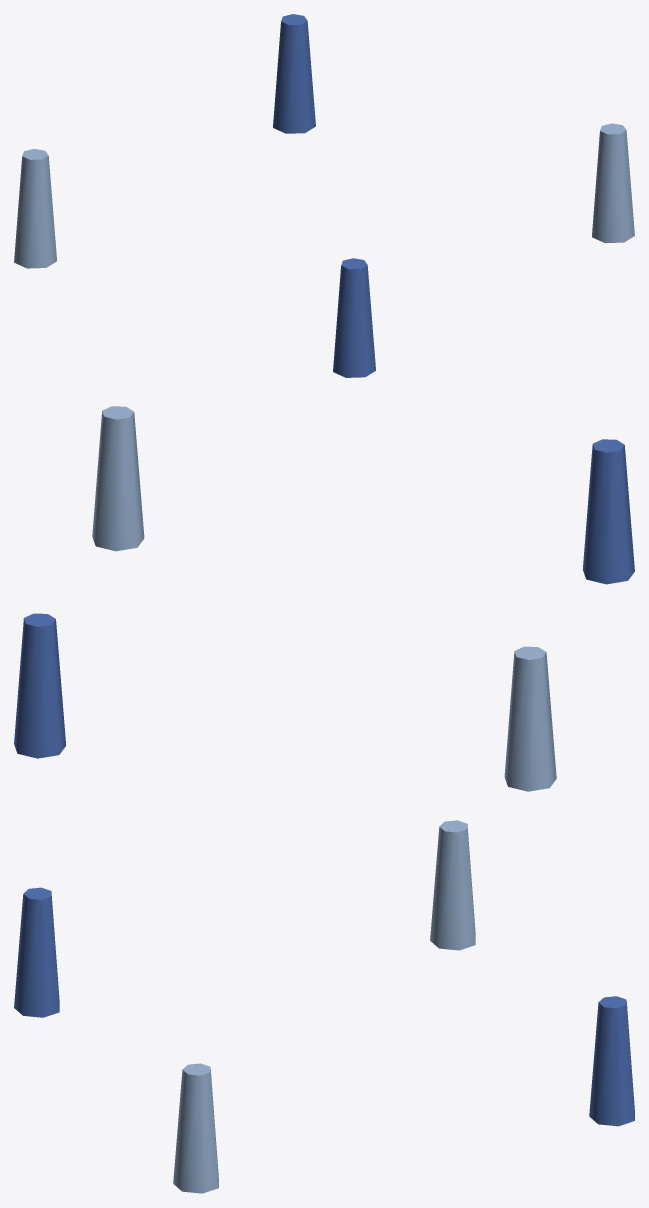
Rendered from boundary.glb.
3 views of the same model, one above another, from view 1: azimuth 30°, elevation 25°; view 2: azimuth 150°, elevation 25°; view 3: azimuth 270°, elevation 25° (orthographic). The views are drawn at different scales.
Parts seen in each view (by area): view 1: boundary_1, boundary_3, boundary_0, boundary_2; view 2: boundary_3, boundary_2, boundary_0, boundary_1; view 3: boundary_2, boundary_0, boundary_1, boundary_3.
Boxes of the visible parts, x1=… form: boundary_1: x1=333, y1=258, x2=375, y2=377; boundary_3: x1=273, y1=14, x2=315, y2=133; boundary_0: x1=592, y1=123, x2=634, y2=243; boundary_2: x1=14, y1=149, x2=56, y2=268; boundary_3: x1=14, y1=613, x2=66, y2=758; boundary_2: x1=504, y1=646, x2=556, y2=791; boundary_0: x1=92, y1=406, x2=144, y2=551; boundary_1: x1=582, y1=439, x2=634, y2=584; boundary_2: x1=430, y1=820, x2=475, y2=950; boundary_0: x1=173, y1=1063, x2=218, y2=1193; boundary_1: x1=14, y1=887, x2=59, y2=1017; boundary_3: x1=589, y1=996, x2=634, y2=1126.
Size of what is drawn, in the model's own units: 16.79 by 3.4 by 16.76.
